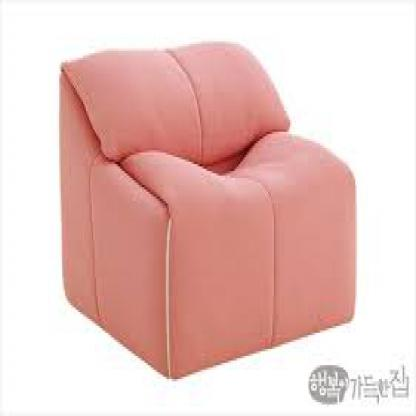sofa: (56, 53, 366, 368)
